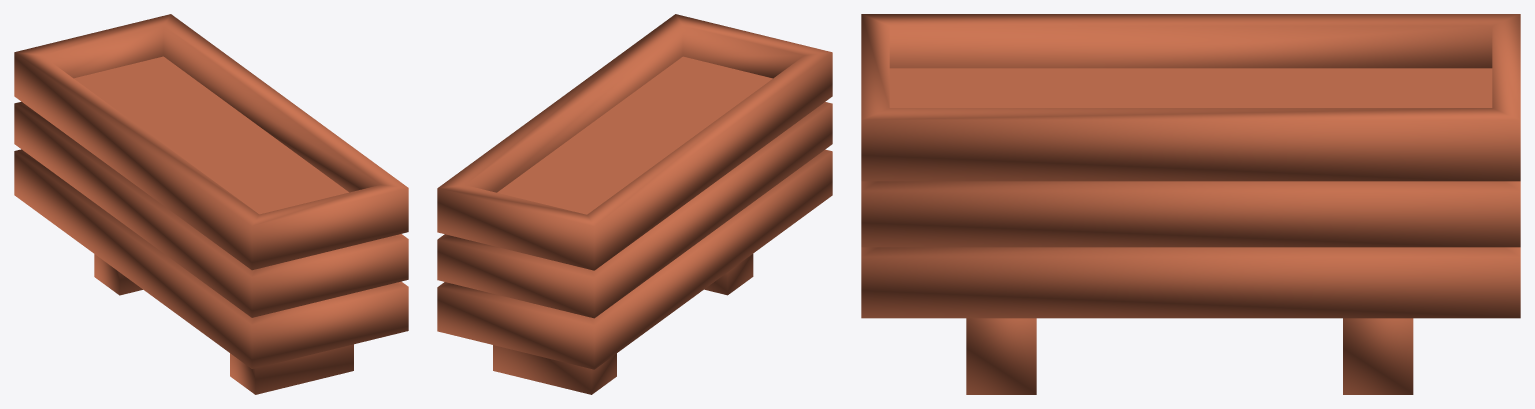
The model's file is Plantpot.fbx.
3 views of the same model, side by side, from view 1: azimuth 30°, elevation 25°; view 2: azimuth 150°, elevation 25°; view 3: azimuth 270°, elevation 25° (orthographic). The views are drawn at different scales.
Visible parts, largest first — view 1: Box043, Box044, Box045; view 2: Box043, Box045, Box044; view 3: Box043, Box044, Box045.
Part boxes in pixels (left/top/right/bottom): Box043: left=14, top=14, right=408, bottom=368; Box044: left=230, top=344, right=353, bottom=394; Box045: left=94, top=254, right=142, bottom=295; Box043: left=437, top=14, right=832, bottom=369; Box045: left=493, top=345, right=616, bottom=394; Box044: left=704, top=254, right=753, bottom=295; Box043: left=861, top=14, right=1520, bottom=318; Box044: left=966, top=318, right=1036, bottom=394; Box045: left=1343, top=318, right=1413, bottom=394.
Bounding box in the file's own units: 50.23 × 63.23 × 132.
